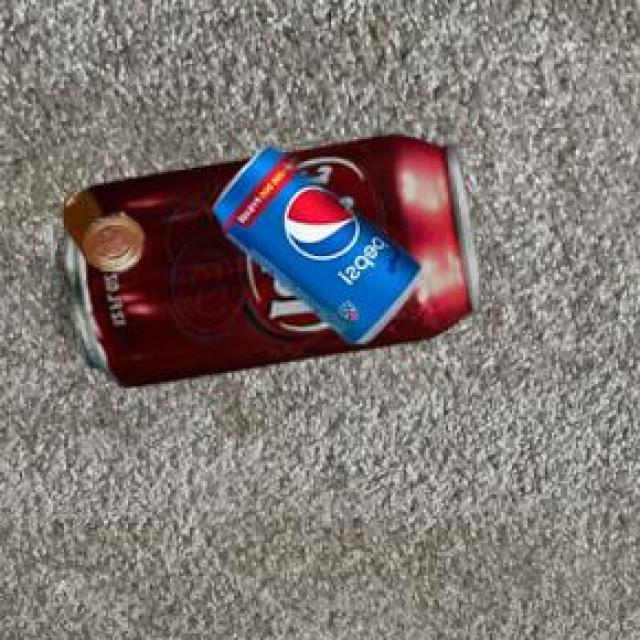logam: (63, 138, 478, 390), (211, 149, 418, 348), (61, 193, 140, 275)
